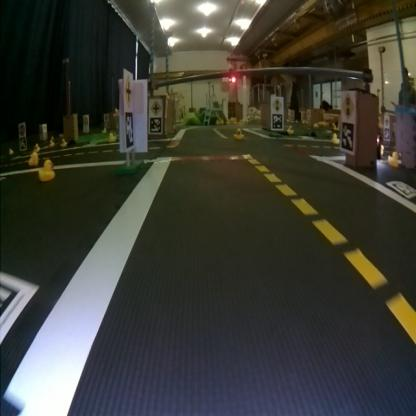Duckie: (40, 158, 56, 180), (388, 150, 400, 166), (30, 150, 39, 164), (235, 127, 245, 139), (332, 132, 340, 144), (110, 132, 117, 142), (61, 138, 68, 148), (288, 125, 294, 133), (50, 138, 56, 146)
Intersection sign: (126, 74, 132, 107), (150, 100, 162, 116)
QR code: (387, 180, 415, 198), (341, 122, 355, 150), (126, 112, 134, 148), (150, 116, 162, 132), (273, 114, 283, 128)
Signal sign: (344, 92, 355, 118), (272, 97, 282, 111)
Traffic light: (230, 74, 237, 82)
